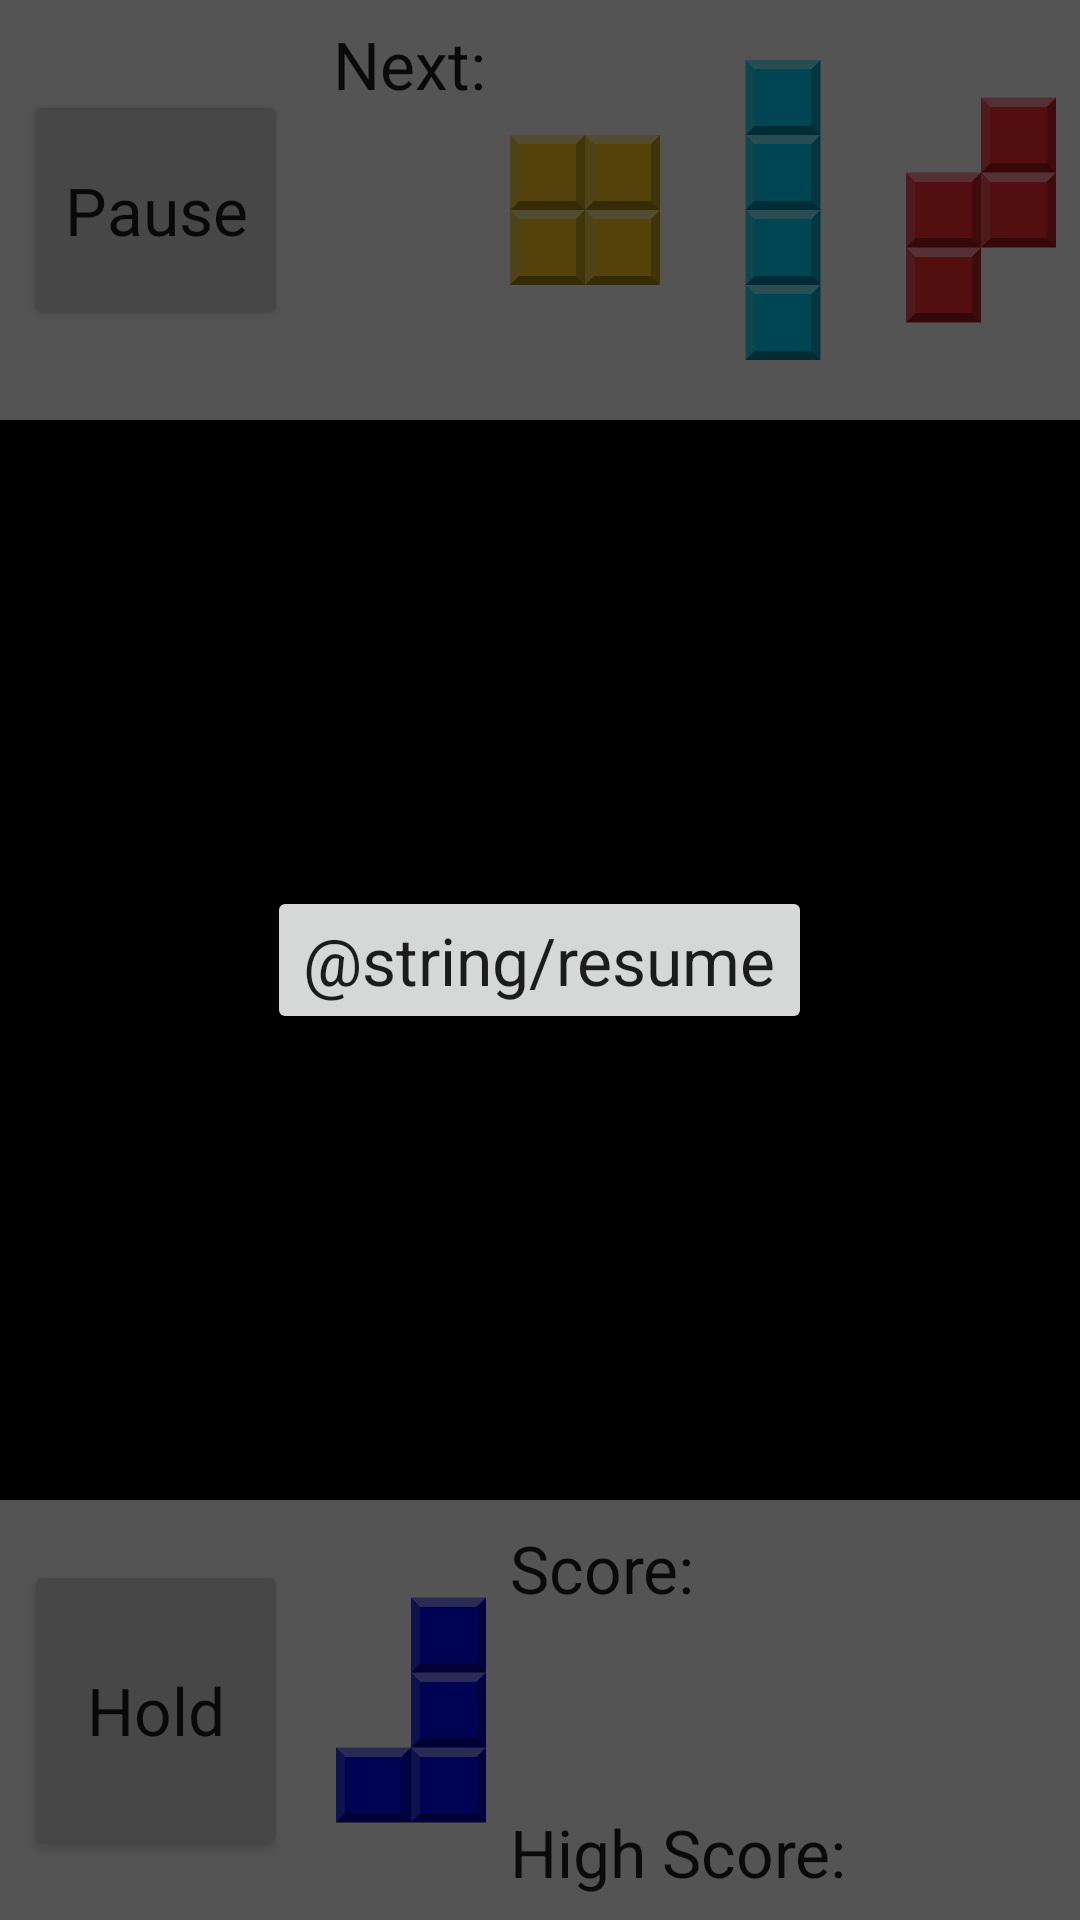

Icons on this 1080w x 1920h Android screen, each with the point to tap as [x,y]:
block: [783,210], [981,210], [585,210], [411,1710]
